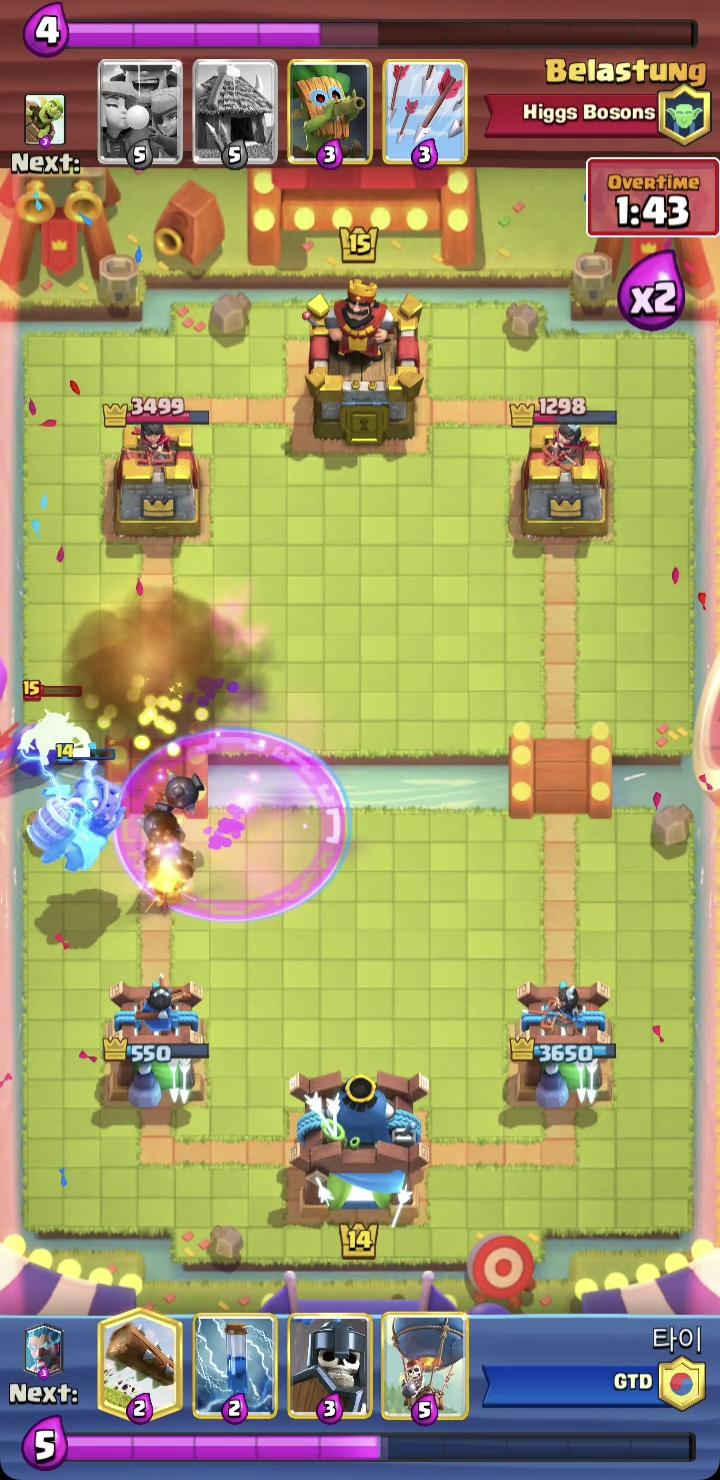ally_infernodragon: (21, 742, 129, 875)
enemy_electro_wizard: (17, 678, 93, 763)
